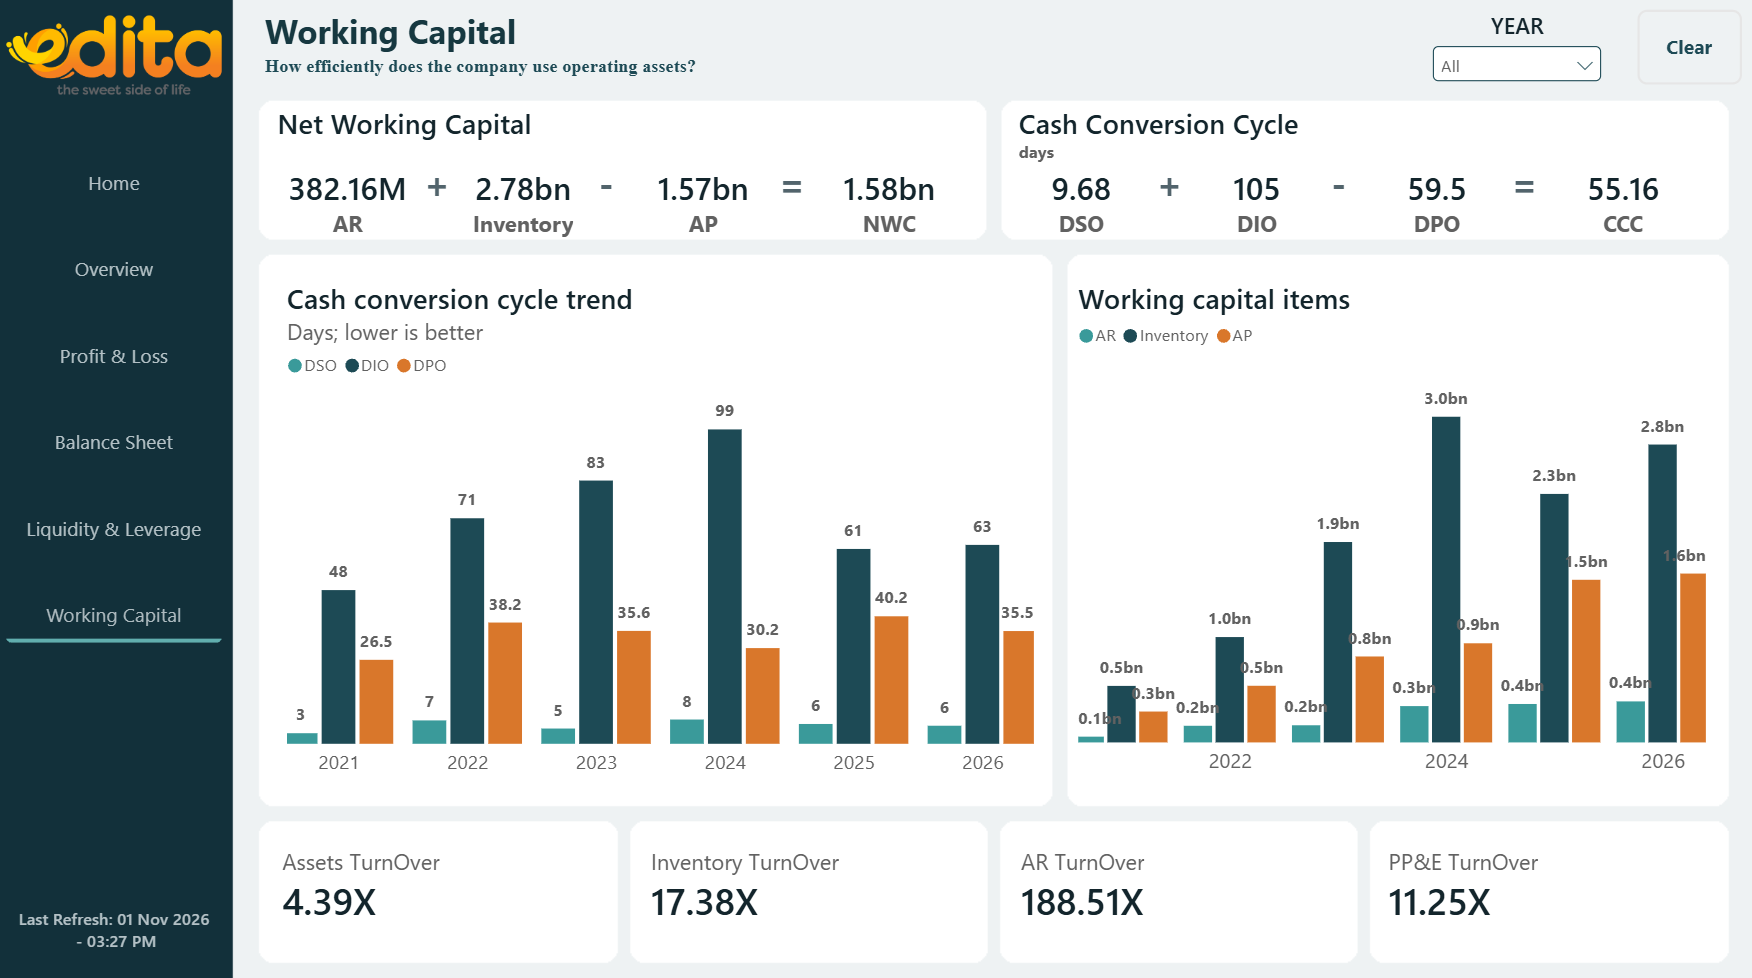

This screenshot's page, from the dashboard's own definition file:
{"tool":"powerbi","page":{"name":"Working Capital","canvas":[1280,720],"ordinal":5},"visuals":[{"type":"textbox","box":[196.3,9.1,219.1,33.5],"z":0},{"type":"textbox","box":[196.3,42.6,337.8,22.8],"z":1000},{"type":"card","fields":{"Values":["Measure_List.Last Refresh Display"]},"box":[0,640.6,173.3,79.3],"z":2000},{"type":"cardVisual","fields":{"Data":["Measure_List.Net Working Capital"]},"box":[590.4,117.1,121.7,74.6],"z":4000},{"type":"cardVisual","fields":{"Data":["Measure_List.AR"]},"box":[195.7,117.1,122.9,75.7],"z":5000},{"type":"cardVisual","fields":{"Data":["Measure_List.Inventory"]},"box":[324,117.1,121.7,74.6],"z":6000},{"type":"cardVisual","fields":{"Data":["Measure_List.AP"]},"box":[454.9,117.1,121.7,74.6],"z":7000},{"type":"textbox","box":[311.7,117.1,19.2,35],"z":8000},{"type":"textbox","box":[438.9,117.1,22.9,35.7],"z":9000},{"type":"textbox","box":[569.8,117.1,27.5,35],"z":10000},{"type":"cardVisual","fields":{"Data":["Measure_List.CCC"]},"box":[1123.5,117.3,121.7,74.6],"z":11000},{"type":"cardVisual","fields":{"Data":["Measure_List.DSO"]},"box":[728.8,117.3,122.9,75.7],"z":12000},{"type":"cardVisual","fields":{"Data":["Measure_List.DIO"]},"box":[857.1,117.3,121.7,74.6],"z":13000},{"type":"cardVisual","fields":{"Data":["Measure_List.DPO"]},"box":[988,117.3,121.7,74.6],"z":14000},{"type":"textbox","box":[844.8,117.3,19.2,35],"z":15000},{"type":"textbox","box":[972,117.3,22.9,35.7],"z":16000},{"type":"textbox","box":[1102.8,117.3,27.5,35],"z":17000},{"type":"cardVisual","title":"Net Working Capital","fields":{"Data":["Measure_List.Net Working Capital"]},"box":[205.7,74.3,197.1,37.1],"z":18000},{"type":"cardVisual","title":"Cash Conversion Cycle","fields":{"Data":["Measure_List.Net Working Capital"]},"box":[744.3,74.3,248.6,54.3],"z":19000},{"type":"clusteredColumnChart","title":"Cash conversion cycle trend","fields":{"Category":["Dim_Calendar.Year"],"Y":["Measure_List.DSO","Measure_List.DIO","Measure_List.DPO"]},"box":[196.3,191.7,575.2,395.6],"z":20000},{"type":"clusteredColumnChart","title":"Working capital items","fields":{"Category":["Dim_Calendar.Year"],"Y":["Measure_List.AR","Measure_List.Inventory","Measure_List.AP"]},"box":[771.5,191.7,488.5,395.6],"z":21000},{"type":"cardVisual","fields":{"Data":["Measure_List.Assets TurnOver"]},"box":[200.9,601.1,254.1,100.4],"z":22000},{"type":"cardVisual","fields":{"Data":["Measure_List.Inventory TurnOver"]},"box":[468.7,601.1,254.1,100.4],"z":23000},{"type":"cardVisual","fields":{"Data":["Measure_List.AR TurnOver"]},"box":[738,601.1,254.1,100.4],"z":24000},{"type":"cardVisual","fields":{"Data":["Measure_List.PP&E TurnOver"]},"box":[1005.8,601.1,254.1,100.4],"z":25000},{"type":"slicer","title":"YEAR","fields":{"Values":["Dim_Calendar.Year"]},"box":[1041.2,9.7,132.5,53.8],"z":26000},{"type":"actionButton","box":[1194.4,9.7,76,54.3],"z":27000},{"type":"pageNavigator","box":[0,108,173.3,374.6],"z":27001},{"type":"image","box":[8.6,11,157.1,63.8],"z":27002}]}

Visuals, with their boxes in screenshot pixels (x1, y1, x2, y2), scaled from the page's 1280x720 canvas onto the 1752x978 screenshot:
textbox: 269 12 569 58
textbox: 269 58 731 89
card - Measure_List.Last Refresh Display: 0 870 237 977
cardVisual - Measure_List.Net Working Capital: 808 159 975 260
cardVisual - Measure_List.AR: 268 159 436 262
cardVisual - Measure_List.Inventory: 443 159 610 260
cardVisual - Measure_List.AP: 623 159 789 260
textbox: 427 159 453 207
textbox: 601 159 632 208
textbox: 780 159 818 207
cardVisual - Measure_List.CCC: 1538 159 1704 261
cardVisual - Measure_List.DSO: 998 159 1166 262
cardVisual - Measure_List.DIO: 1173 159 1340 261
cardVisual - Measure_List.DPO: 1352 159 1519 261
textbox: 1156 159 1183 207
textbox: 1330 159 1362 208
textbox: 1509 159 1547 207
"Net Working Capital" cardVisual: 282 101 551 151
"Cash Conversion Cycle" cardVisual: 1019 101 1359 175
"Cash conversion cycle trend" clusteredColumnChart: 269 260 1056 798
"Working capital items" clusteredColumnChart: 1056 260 1725 798
cardVisual - Measure_List.Assets TurnOver: 275 816 623 953
cardVisual - Measure_List.Inventory TurnOver: 642 816 989 953
cardVisual - Measure_List.AR TurnOver: 1010 816 1358 953
cardVisual - Measure_List.PP&E TurnOver: 1377 816 1724 953
"YEAR" slicer: 1425 13 1607 86
actionButton: 1635 13 1739 87
pageNavigator: 0 147 237 656
image: 12 15 227 102
